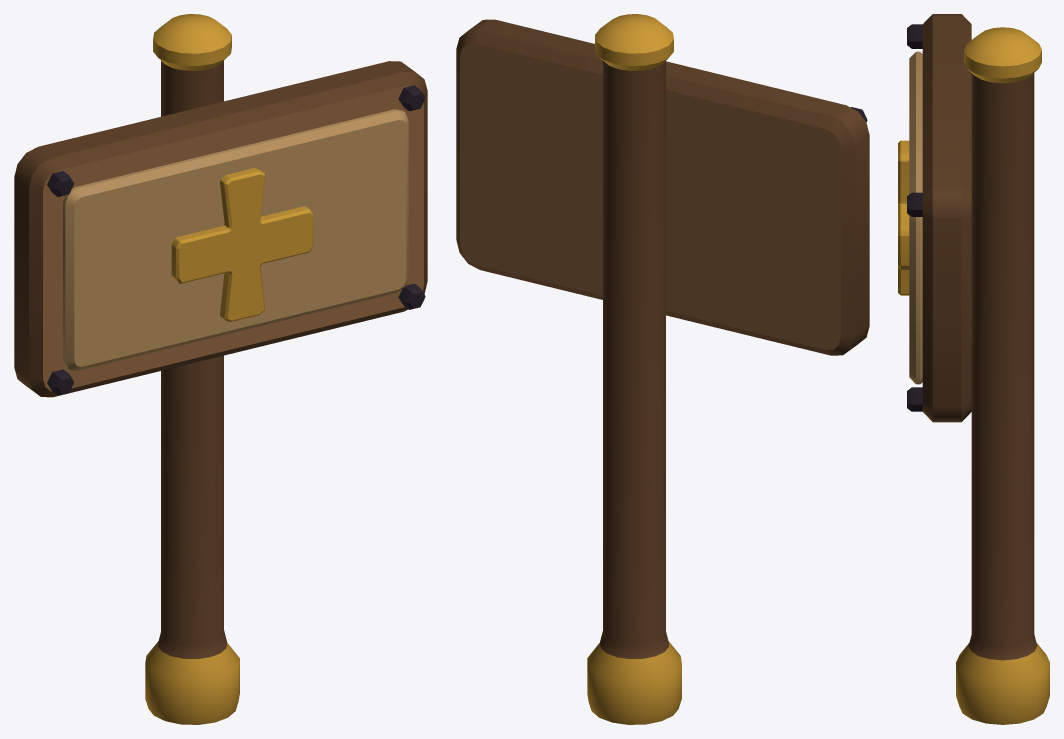
File: Sign_06.glb
3 views of the same model, side by side, from view 1: azimuth 30°, elevation 25°; view 2: azimuth 150°, elevation 25°; view 3: azimuth 270°, elevation 25° (orthographic).
Visible parts, largest first — view 1: Sign_06; view 2: Sign_06; view 3: Sign_06.
Part boxes in pixels (left/top/right/bottom): Sign_06: left=14, top=14, right=427, bottom=724; Sign_06: left=456, top=14, right=869, bottom=724; Sign_06: left=898, top=14, right=1049, bottom=724.
Size of the model in its own units: 2.02 by 3.33 by 0.68.
